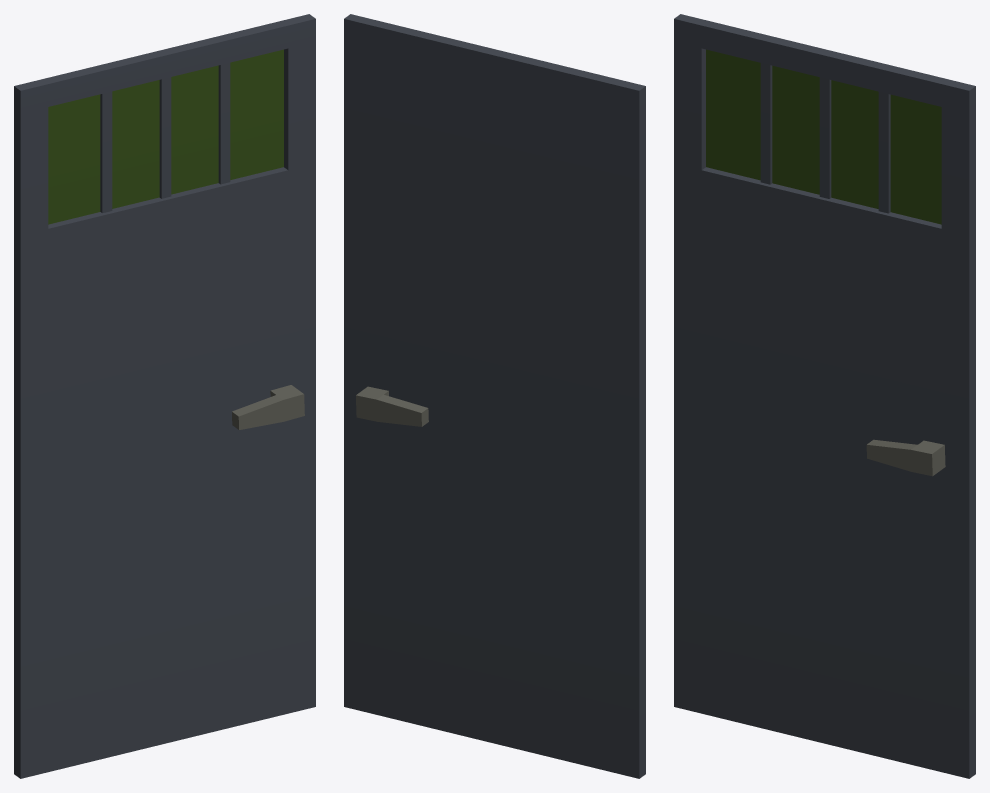
Rendered from House_11_Door01.fbx.
3 views of the same model, side by side, from view 1: azimuth 30°, elevation 25°; view 2: azimuth 150°, elevation 25°; view 3: azimuth 330°, elevation 25° (orthographic).
Visible parts, largest first — view 1: House_11_Door01; view 2: House_11_Door01; view 3: House_11_Door01.
Boxes of the visible parts, x1,y1,x2,y2 form: House_11_Door01: (14,14,315,778); House_11_Door01: (344,14,645,778); House_11_Door01: (674,14,975,778).
Bounding box in the file's own units: 0.9 × 2 × 0.1656.
